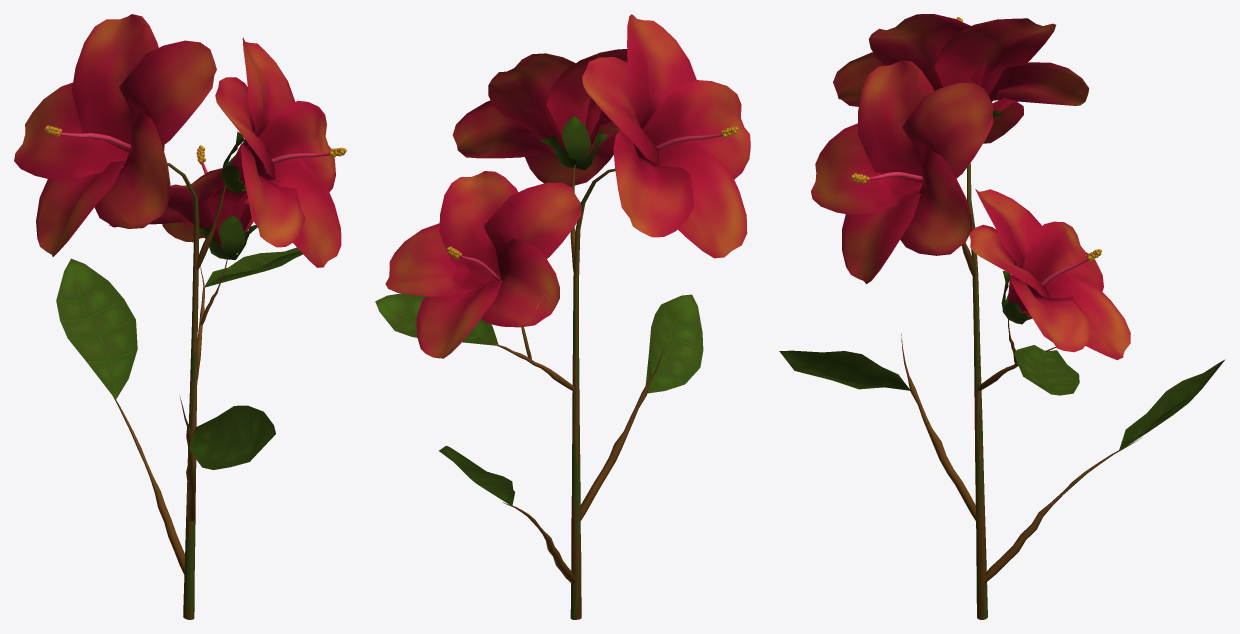
Rendered from hibiscous.gltf.
The picture shows the model from 3 angles, left to right: view 1: azimuth 30°, elevation 25°; view 2: azimuth 150°, elevation 25°; view 3: azimuth 270°, elevation 25°; orthographic projection. The views are drawn at different scales.
Visible parts, largest first — view 1: Object_6, Object_4, Object_3; view 2: Object_6, Object_4, Object_3; view 3: Object_6, Object_4, Object_3.
Part boxes in pixels (x1,y1,x2,y2): Object_6: (14,14,341,619); Object_4: (113,158,231,574); Object_3: (162,145,199,619); Object_6: (375,14,750,619); Object_4: (480,164,664,583); Object_3: (570,169,615,619); Object_6: (779,14,1225,619); Object_4: (901,242,1142,583); Object_3: (967,164,987,619).
Size of the model in its own units: 6.92 by 12.16 by 8.3.
2 materials, 2 textured.
